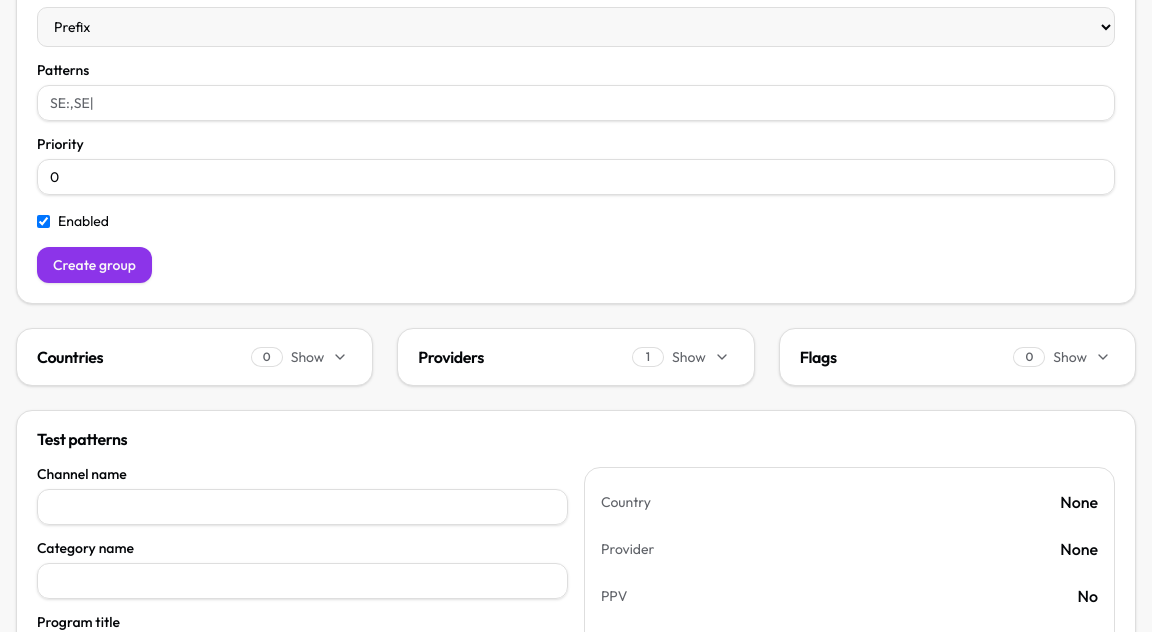
Scenario: AdminPage JSON import › renders saved rule cards collapsed by default and expands on click
(page scrolled)
Click the button with aria-label "expand providers" at coordinates (451, 357), box x1=418 y1=345 x2=734 y2=369
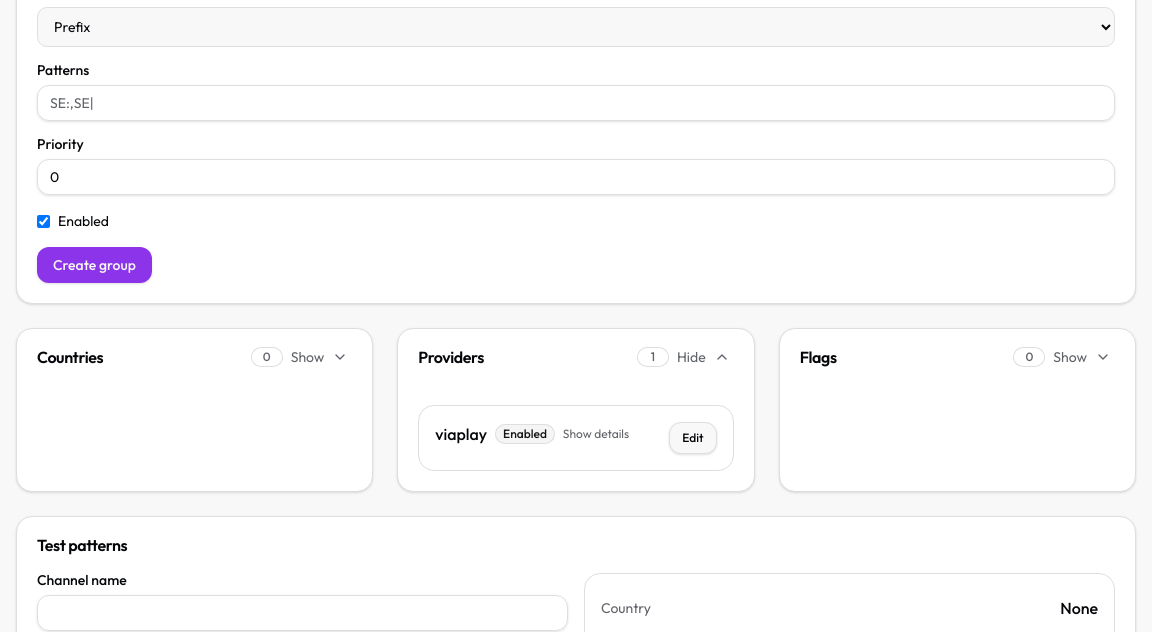
Click the button with aria-label "expand viaplay" at coordinates (546, 434), box x1=435 y1=422 x2=657 y2=446
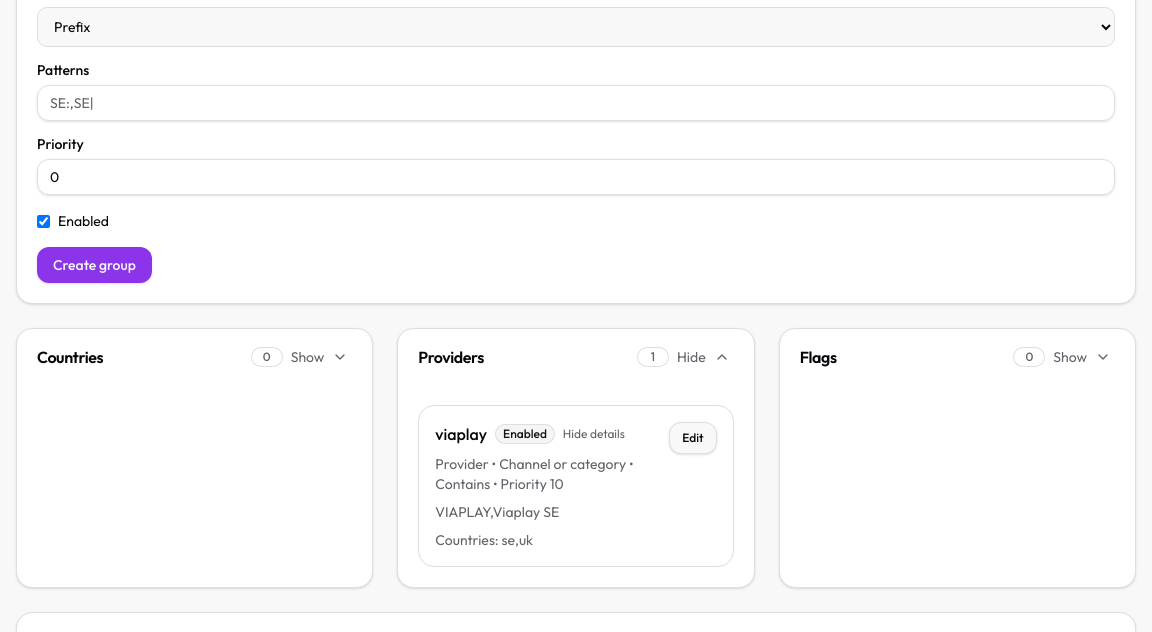
Result: the button with aria-label "collapse viaplay" is expanded at x1=435 y1=422 x2=657 y2=550
